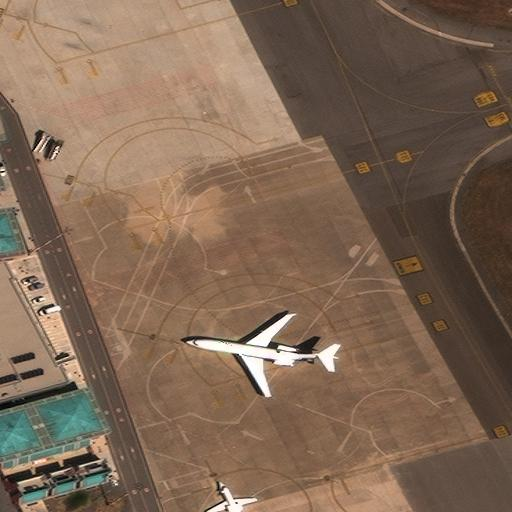Medium Civil Transport: (185, 313, 339, 398)
Small Civil Transport: (206, 480, 255, 511)
